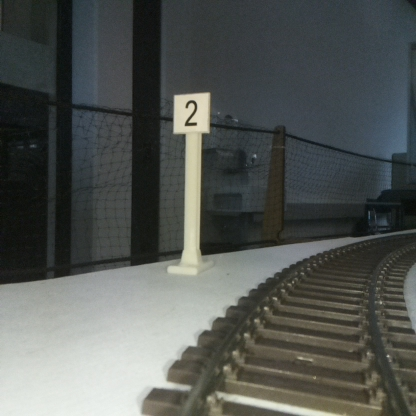white-info-2: (173, 94, 209, 271)
